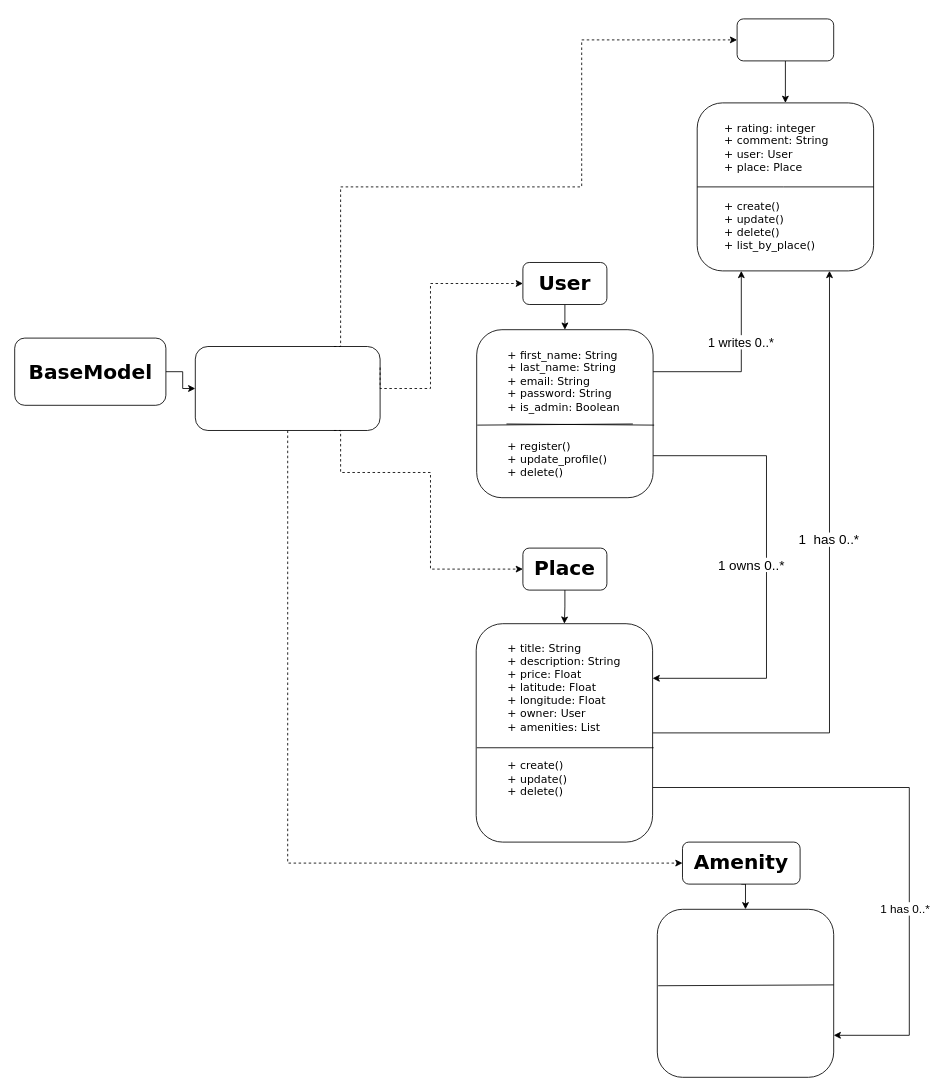
Image size: 951x1092. Some labels were removed from this diagram. The shapes that lost their labels are listed below. From the top down, each one's centre as x and y in pixels, then its label:
At (x=785, y=39): "Review".
At (x=287, y=388): "+ id: UUID4 + created_at: DateTime + updated_at: DateTime".
At (x=745, y=992): "+ name: String + description: String + create() + update() + delete() + list()".
